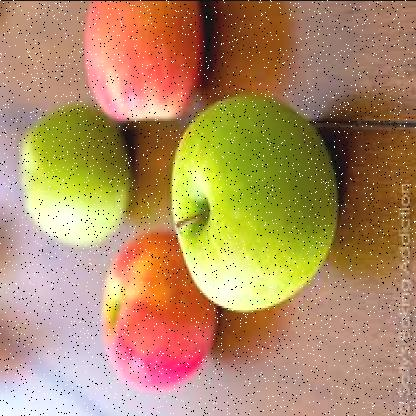apple: (181, 85, 345, 311), (21, 80, 115, 250), (106, 242, 216, 379), (90, 3, 186, 128)
